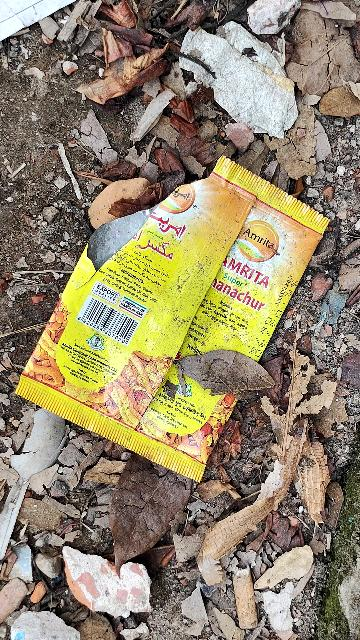packet: (15, 106, 360, 488)
